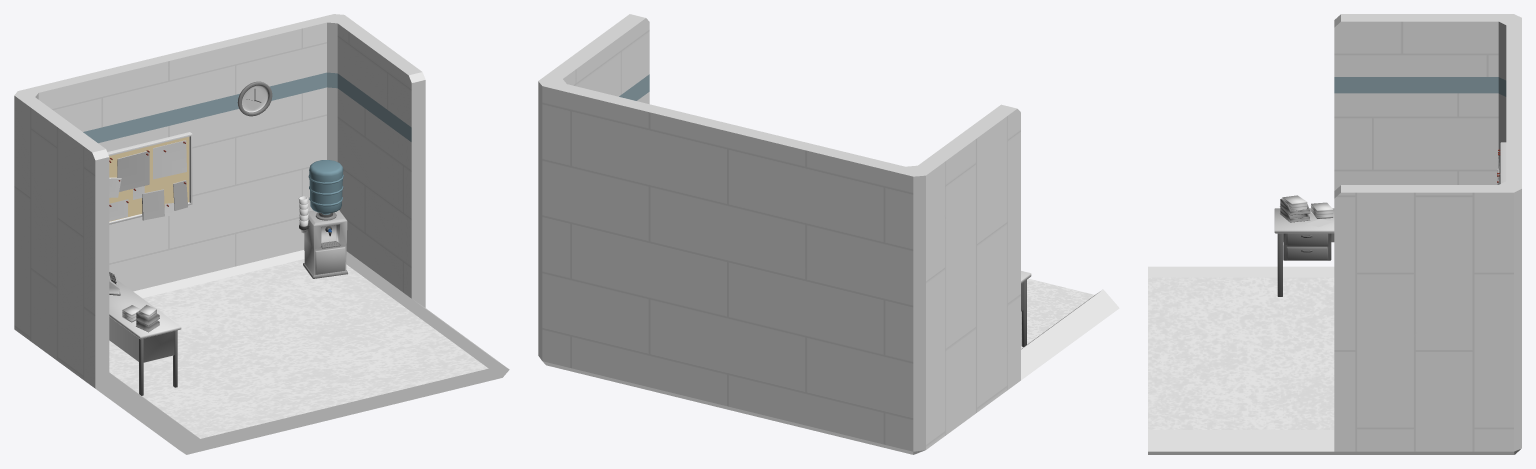
File: Office.fbx
3 renders of one model, left to right at view 1: azimuth 30°, elevation 25°; view 2: azimuth 150°, elevation 25°; view 3: azimuth 270°, elevation 25°, orthographic. The views are drawn at different scales.
Parts seen in each view (by area): view 1: Office; view 2: Office; view 3: Office.
Part boxes in pixels (box(x1,y1,x2,y2)): Office: box(14, 14, 509, 454); Office: box(538, 14, 1119, 454); Office: box(1148, 14, 1521, 454).
Size of the model in its own units: 1091 by 759 by 966.
